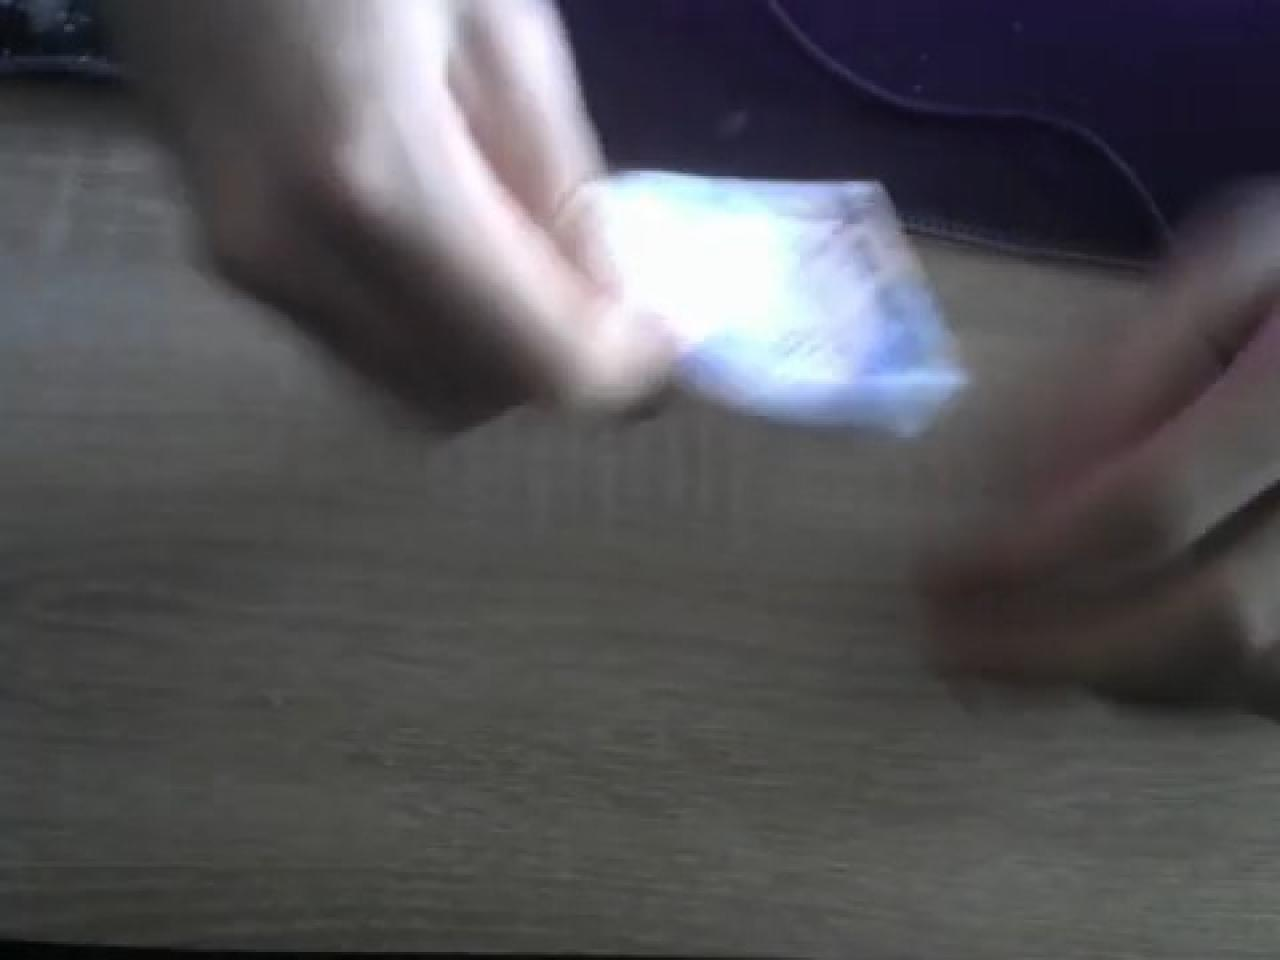20leva: (584, 170, 968, 440)
